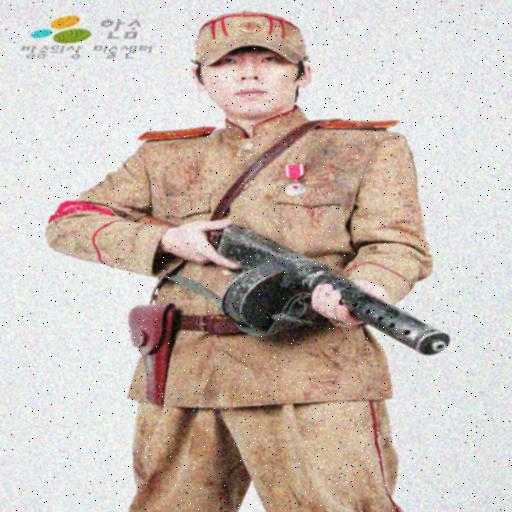north army: (97, 10, 405, 490)
